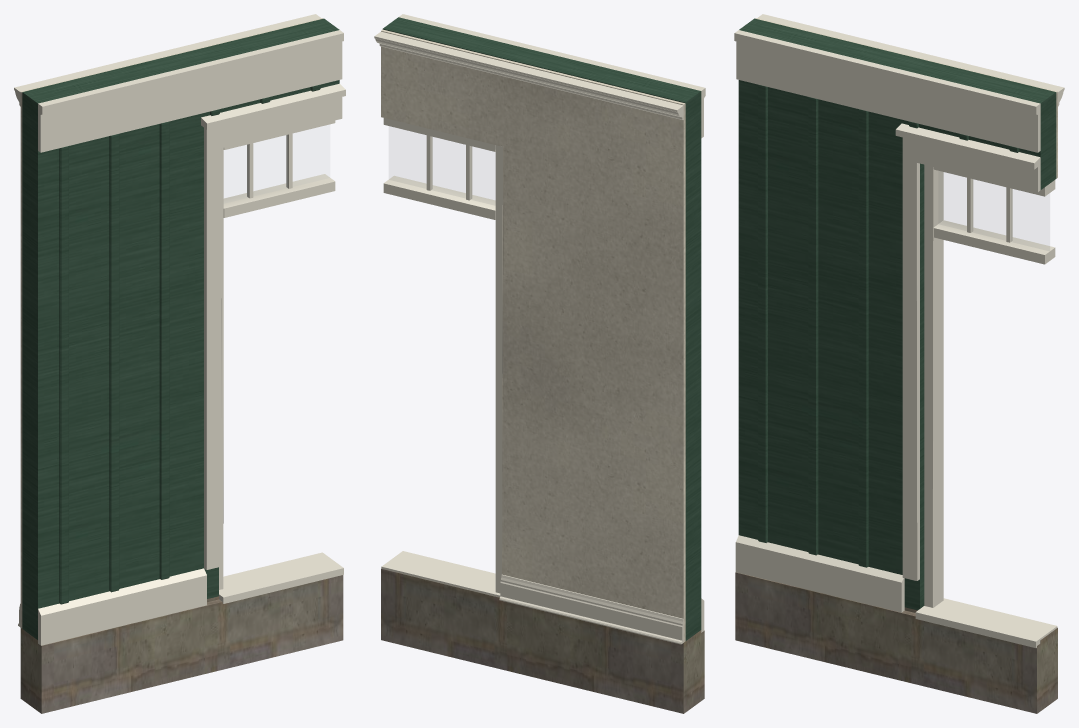
The model's file is w_door_l.glb.
The picture shows the model from 3 angles, left to right: view 1: azimuth 30°, elevation 25°; view 2: azimuth 150°, elevation 25°; view 3: azimuth 330°, elevation 25°; orthographic projection.
Parts seen in each view (by area): view 1: w_door_l_boards, w_door_l_trim, w_door_l_stone, w_door_l_glass, w_door_l_frame, w_door_l_plaster, molduras; view 2: w_door_l_plaster, w_door_l_stone, w_door_l_boards, molduras, w_door_l_frame, w_door_l_glass, w_door_l_trim; view 3: w_door_l_boards, w_door_l_trim, w_door_l_stone, w_door_l_frame, w_door_l_glass, molduras, w_door_l_plaster.
Boxes of the visible parts, x1,y1,x2,y2 form: w_door_l_boards: (22, 18, 339, 639); w_door_l_trim: (38, 30, 345, 645); w_door_l_stone: (20, 575, 343, 713); w_door_l_glass: (224, 125, 329, 202); w_door_l_frame: (219, 120, 335, 589); w_door_l_plaster: (20, 18, 322, 628); molduras: (14, 14, 321, 627); w_door_l_plaster: (381, 29, 685, 642); w_door_l_stone: (381, 568, 704, 713); w_door_l_boards: (382, 17, 701, 640); molduras: (374, 31, 683, 644); w_door_l_frame: (383, 118, 502, 593); w_door_l_glass: (389, 127, 494, 204); w_door_l_trim: (381, 14, 705, 632); w_door_l_boards: (738, 18, 1056, 610); w_door_l_trim: (734, 30, 1057, 647); w_door_l_stone: (735, 572, 1057, 713); w_door_l_frame: (924, 164, 1055, 607); w_door_l_glass: (939, 171, 1049, 250); molduras: (757, 14, 1064, 106); w_door_l_plaster: (756, 18, 1057, 178).
Size of the model in its own units: 2 by 3.85 by 0.345.
6 materials, 3 textured.
